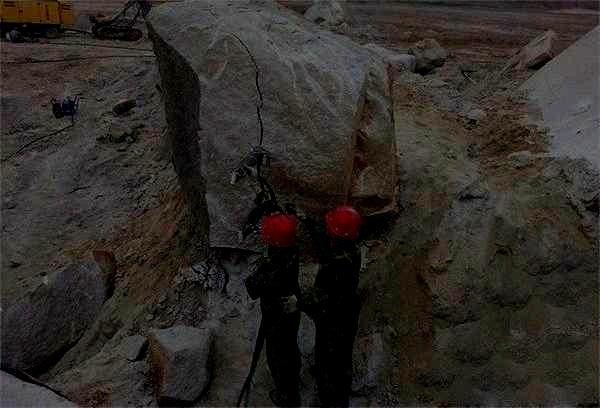helmet: (260, 211, 300, 253), (324, 204, 363, 245)
